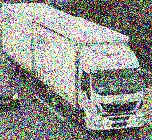truck: (4, 5, 144, 132)
